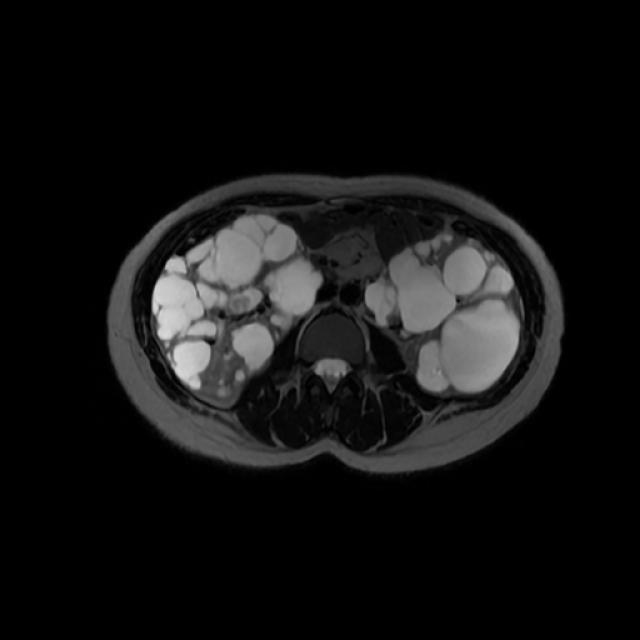sag: (157, 215, 321, 397)
sol: (370, 232, 519, 393)
